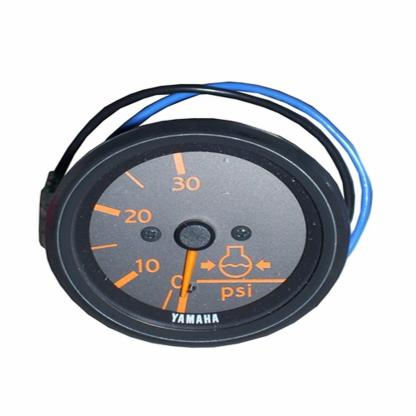needle: (179, 249, 199, 297)
